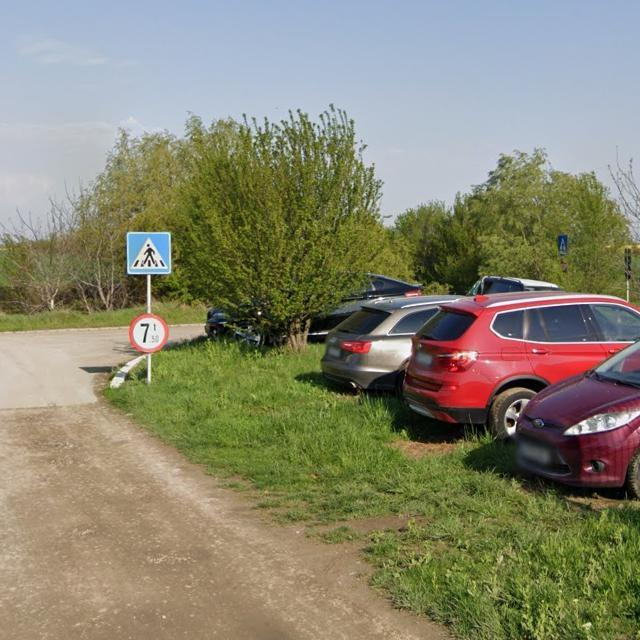info_crosswalk: (125, 232, 172, 274), (558, 235, 569, 254)
